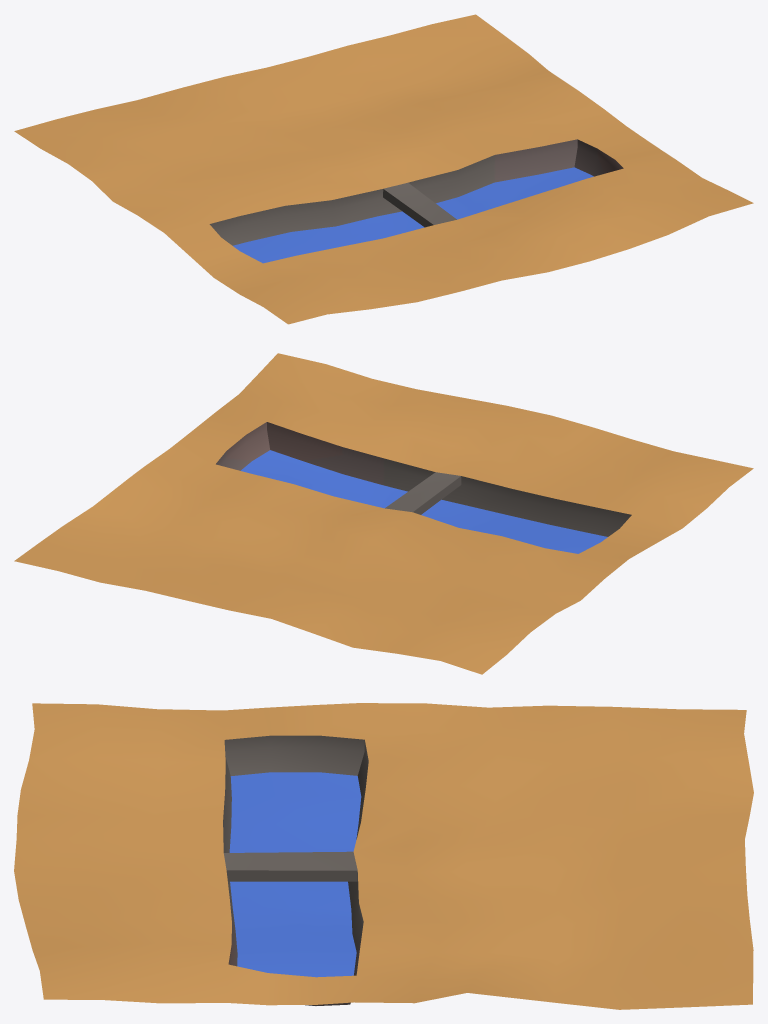
The model's file is Floor.fbx.
3 renders of one model, top to bottom at view 1: azimuth 30°, elevation 25°; view 2: azimuth 150°, elevation 25°; view 3: azimuth 270°, elevation 25°, orthographic. The views are drawn at different scales.
Parts seen in each view (by area): view 1: Floor; view 2: Floor; view 3: Floor.
Part boxes in pixels (x1=…): Floor: x1=14, y1=14, x2=753, y2=324; Floor: x1=14, y1=353, x2=753, y2=674; Floor: x1=14, y1=703, x2=753, y2=1009.
Size of the model in its own units: 20184 by 1538 by 20917.
